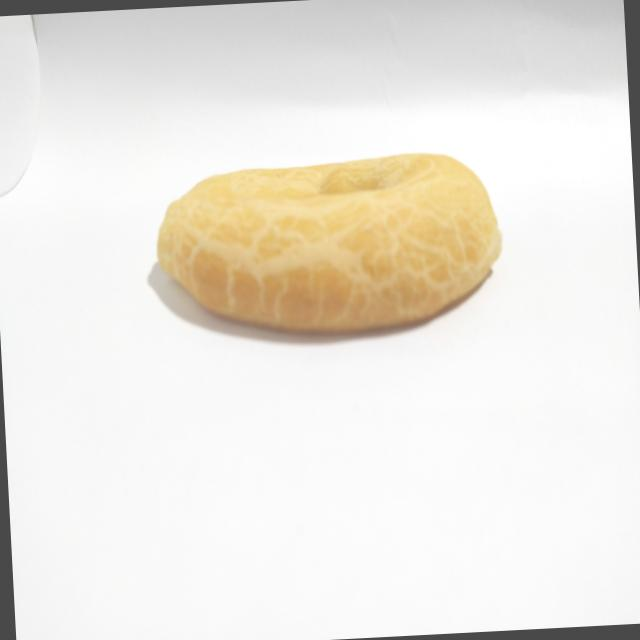Chipa: (148, 142, 514, 352)
